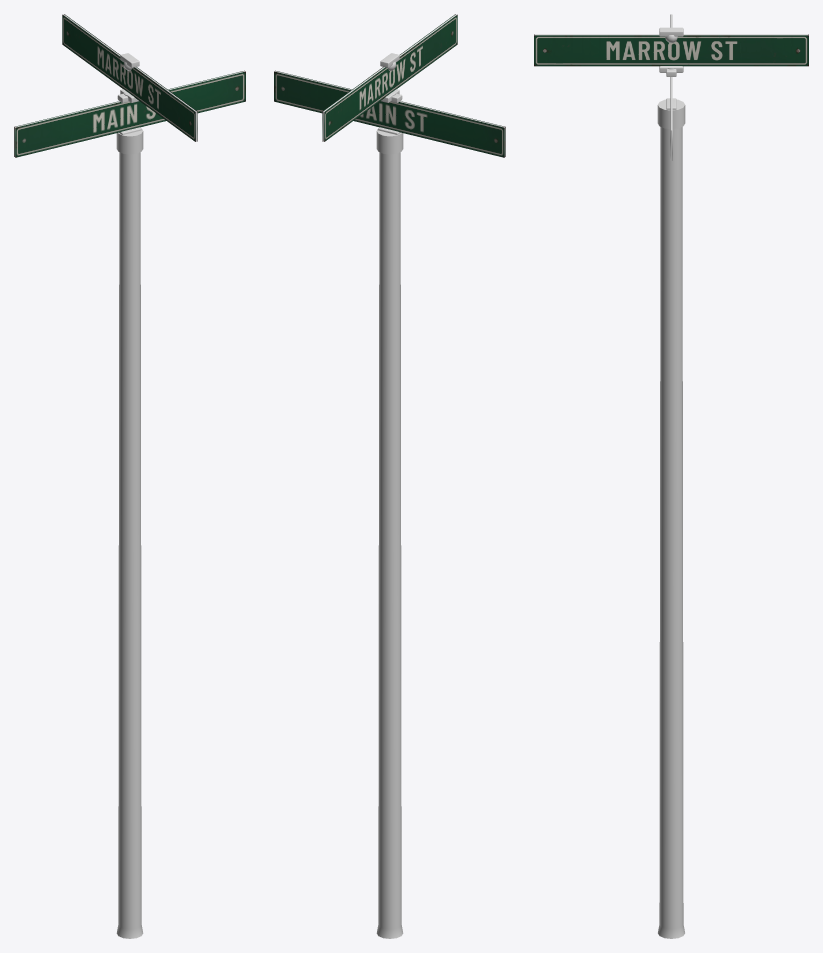
Rendered from SM_Sign_Street_Marrow.fbx.
3 renders of one model, left to right at view 1: azimuth 30°, elevation 25°; view 2: azimuth 150°, elevation 25°; view 3: azimuth 270°, elevation 25°, orthographic. The views are drawn at different scales.
Parts seen in each view (by area): view 1: SM_Sign_Street_Marrow; view 2: SM_Sign_Street_Marrow; view 3: SM_Sign_Street_Marrow.
Part boxes in pixels (x1,y1,x2,y2): SM_Sign_Street_Marrow: [14, 14, 245, 938]; SM_Sign_Street_Marrow: [274, 14, 505, 938]; SM_Sign_Street_Marrow: [534, 14, 808, 938].
Size of the model in its own units: 80 by 290 by 80.
